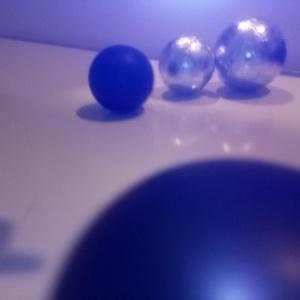alive_ball: (214, 18, 286, 91), (159, 36, 214, 94)
dead_ball: (51, 159, 300, 300), (88, 45, 155, 113)
